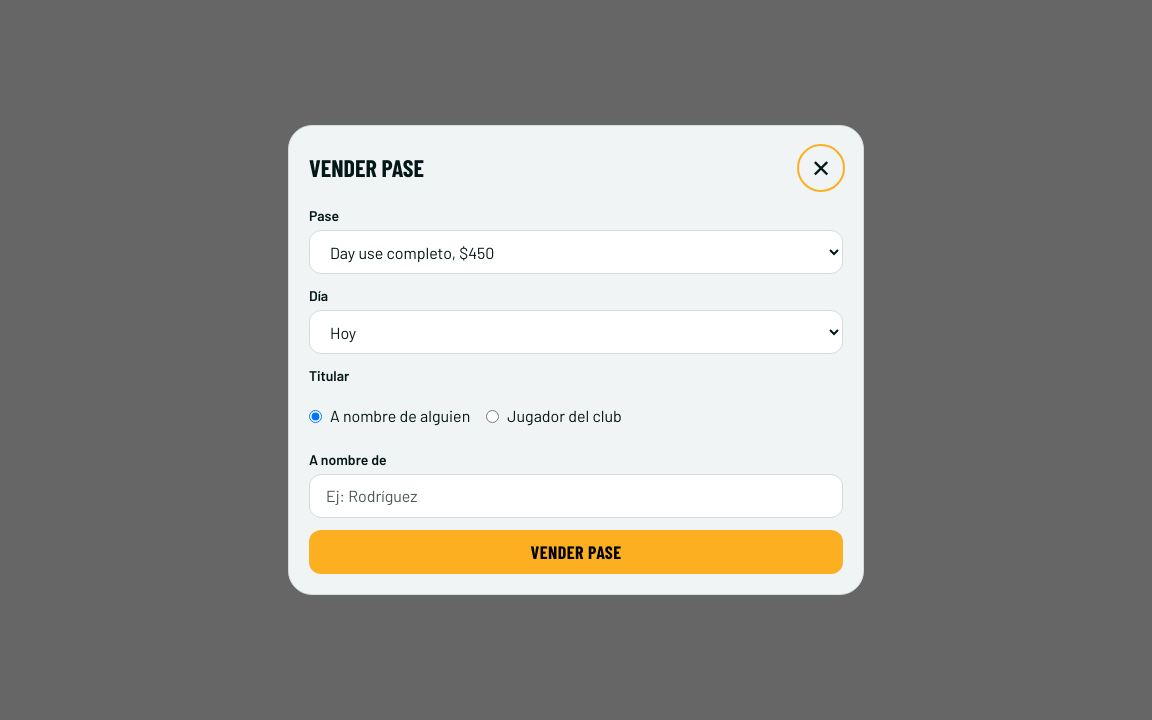
Scenario: SellSheet › offers the member's reward when selling to a member
Click the radio button labelled "Jugador del club" at (493, 416), box [486,410,499,422]
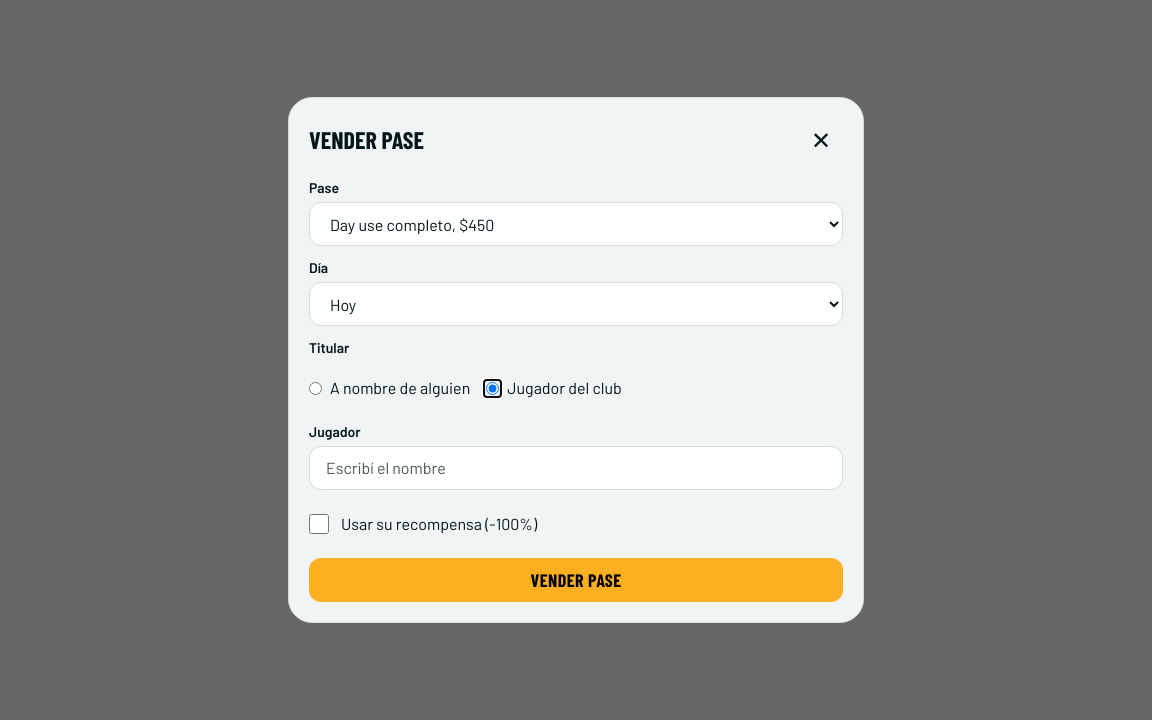
Check: the dropdown labelled "Jugador" is empty, box [309,446,843,490]
Check: the checkbox labelled "Usar su recompensa (-100%)" is not checked, box [309,514,329,534]
